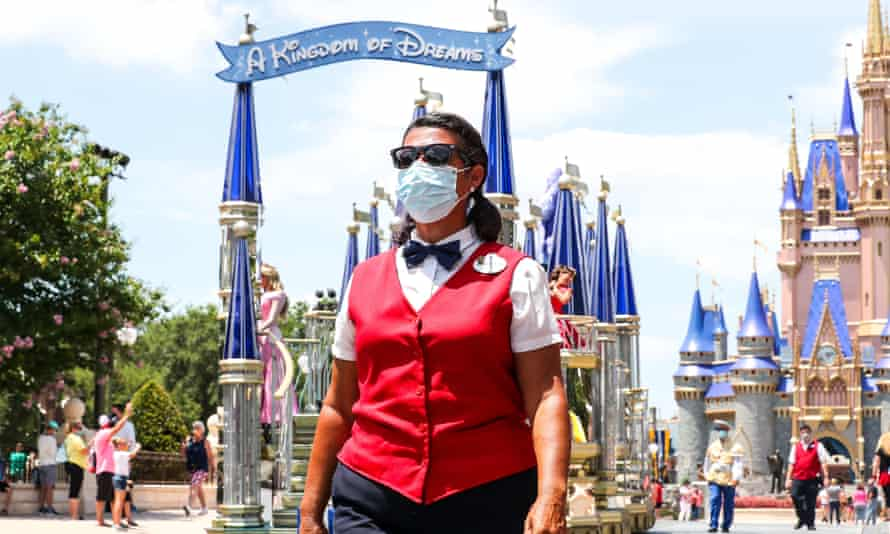with_mask: (394, 136, 474, 225)
